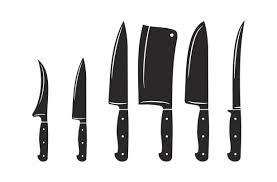Knife: (137, 24, 177, 161), (184, 20, 209, 161), (108, 20, 128, 161), (226, 20, 245, 161), (31, 59, 48, 161), (71, 57, 87, 161)
